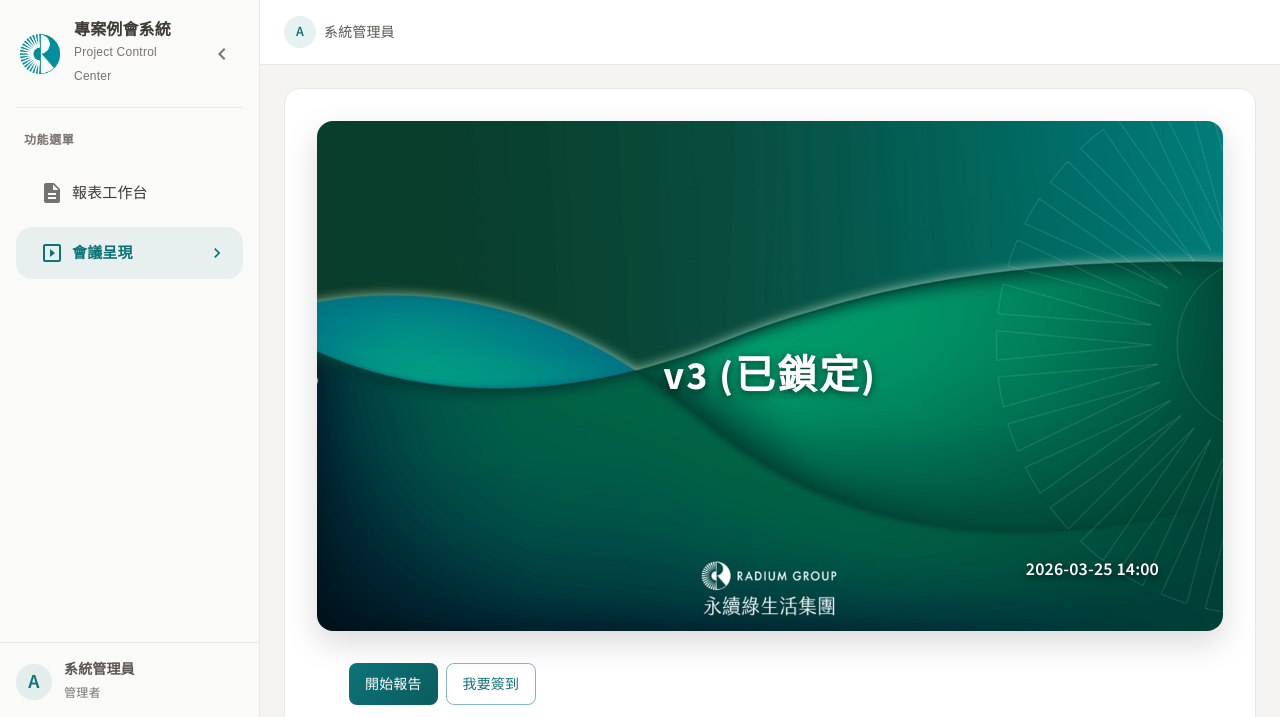
Test: App routing › hides app header and left sidebar while presentation is fullscreen
Click the button "開始報告": (393, 684) [349,663,438,705]
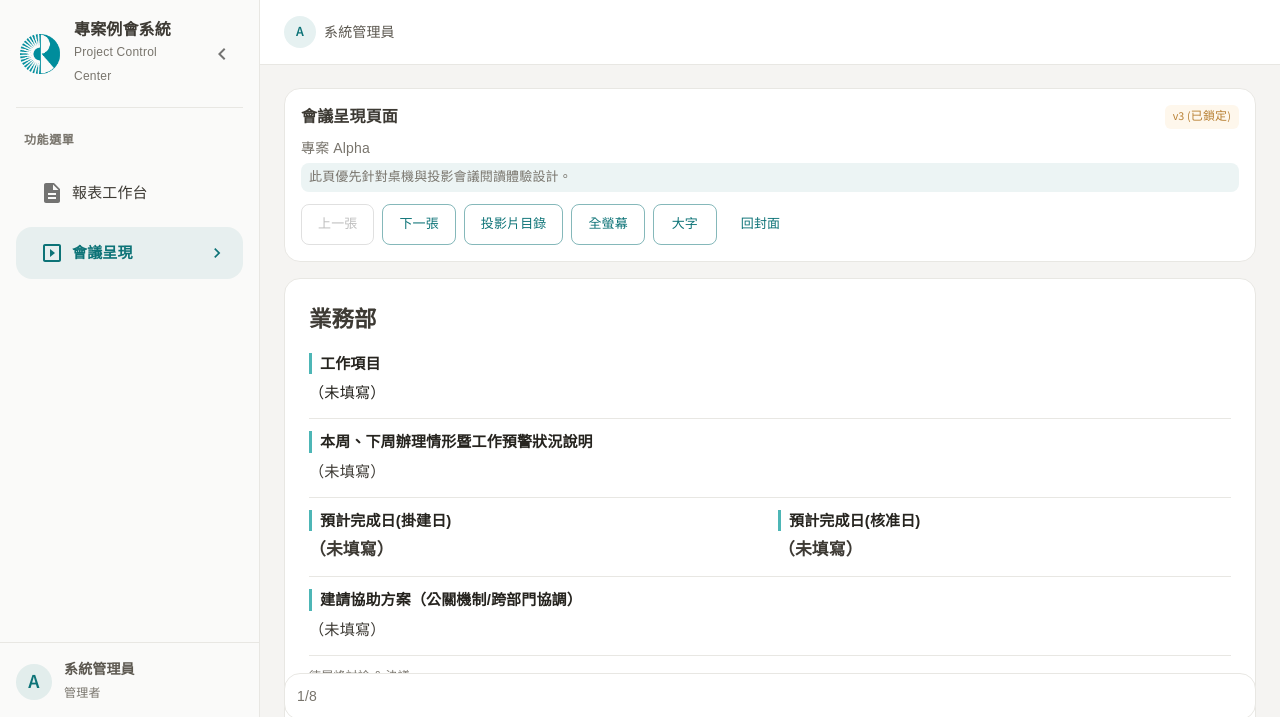
Expected: the header with test id "app-header" is shown, [260,0,1279,65]
Click the button "全螢幕": (608, 225) [571,204,645,245]
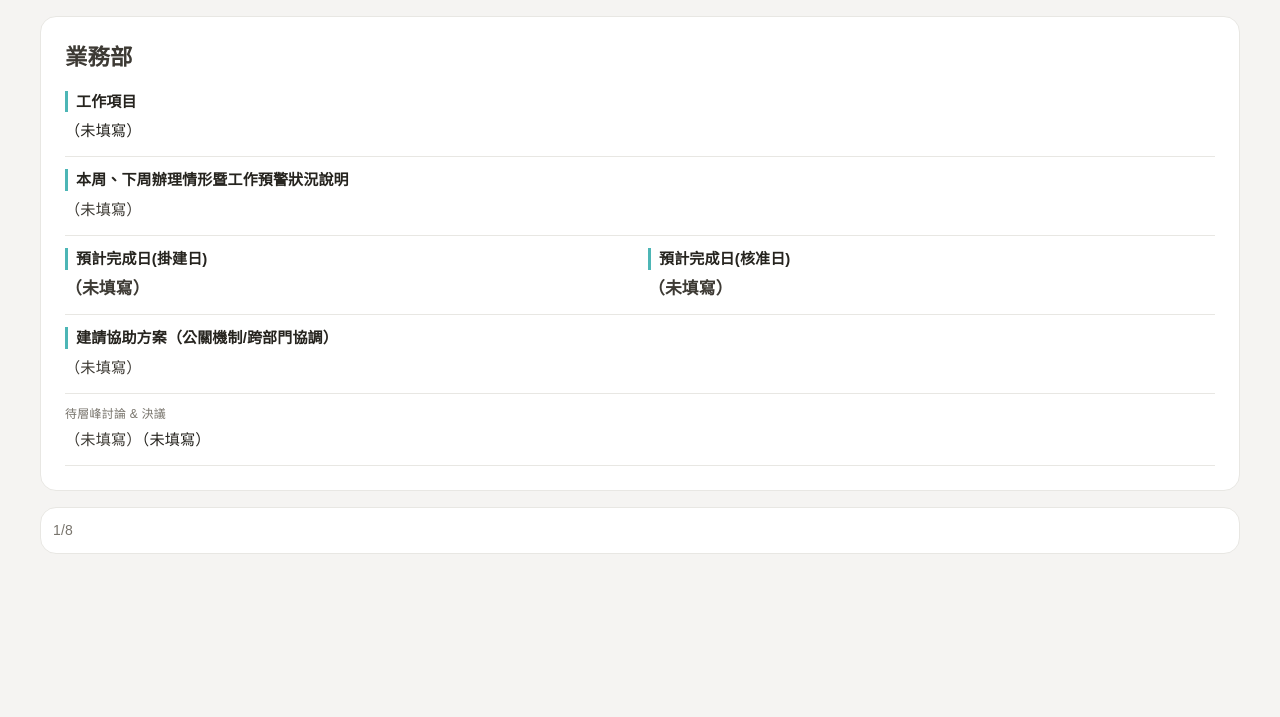
Expected: the header with test id "app-header" is gone
